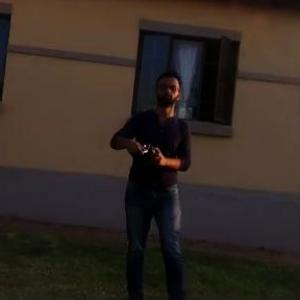follow: (108, 63, 200, 299)
